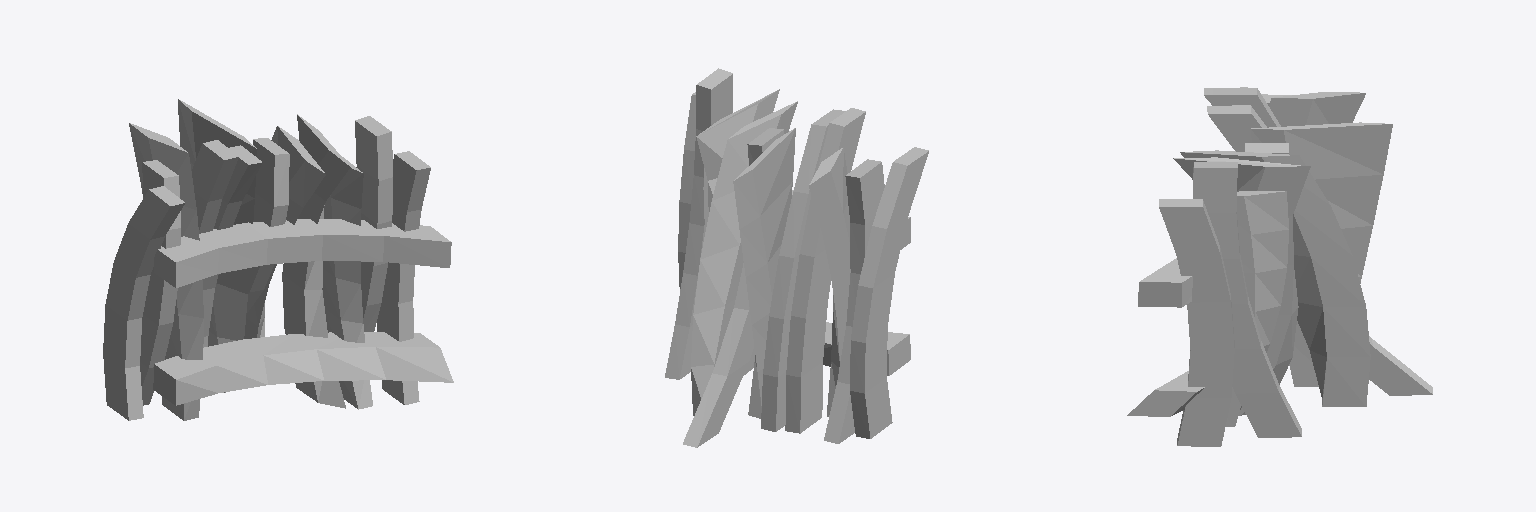
Rendered from Fence.obj.
The picture shows the model from 3 angles: view 1: azimuth 30°, elevation 25°; view 2: azimuth 150°, elevation 25°; view 3: azimuth 270°, elevation 25°; orthographic projection.
Parts seen in each view (by area): view 1: Old_Fence:Old_Fence Mesh; view 2: Old_Fence:Old_Fence Mesh; view 3: Old_Fence:Old_Fence Mesh.
Boxes of the visible parts, x1=… form: Old_Fence:Old_Fence Mesh: x1=103, y1=99, x2=453, y2=420; Old_Fence:Old_Fence Mesh: x1=665, y1=68, x2=928, y2=447; Old_Fence:Old_Fence Mesh: x1=1127, y1=87, x2=1432, y2=446.
Size of the model in its own units: 0.9851 by 1.02 by 1.04.